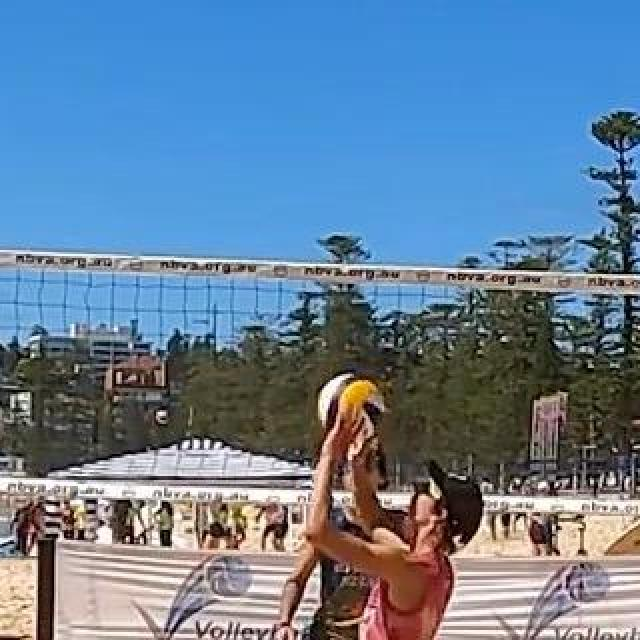volleyball: (318, 373, 384, 439)
